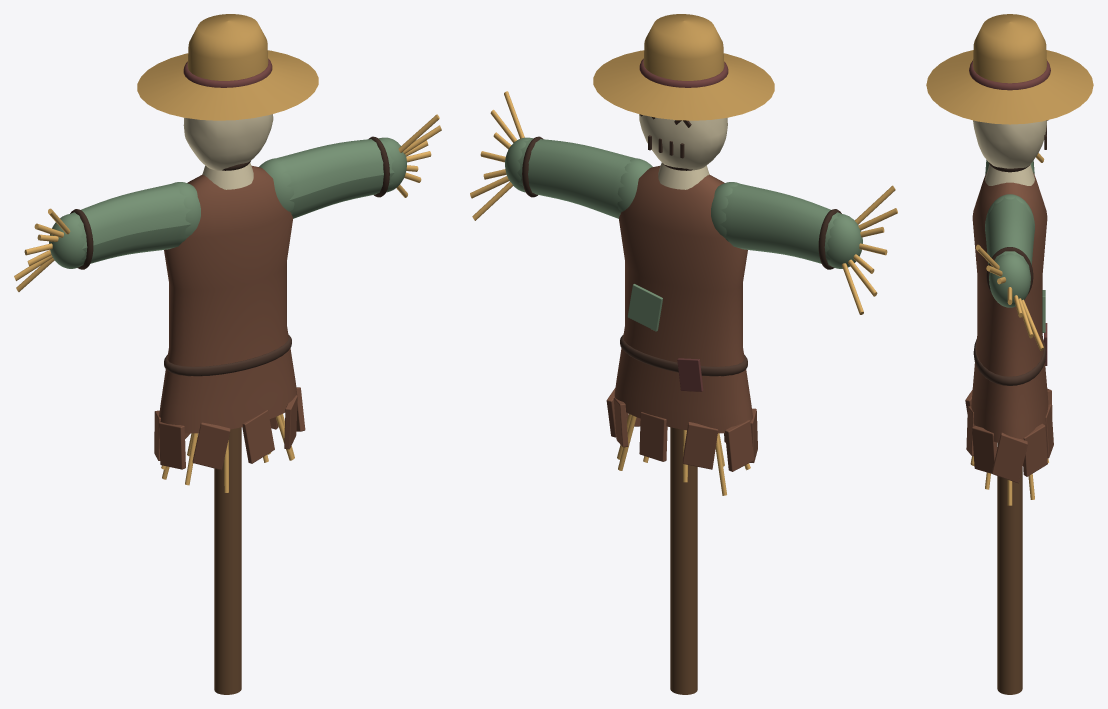
File: detail_scarecrow.glb
3 renders of one model, left to right at view 1: azimuth 30°, elevation 25°; view 2: azimuth 150°, elevation 25°; view 3: azimuth 270°, elevation 25°, orthographic.
Parts seen in each view (by area): view 1: wood, stone, straw, cloth; view 2: wood, stone, straw, cloth; view 3: wood, stone, straw, cloth.
Boxes of the visible parts, <box> form: wood: <box>70,14,389,694</box>; stone: <box>49,137,406,268</box>; straw: <box>14,114,441,492</box>; cloth: <box>164,334,291,376</box>; wood: <box>522,14,841,694</box>; stone: <box>505,137,862,331</box>; straw: <box>470,91,897,495</box>; cloth: <box>620,334,747,376</box>; wood: <box>926,14,1093,694</box>; stone: <box>985,160,1045,332</box>; straw: <box>970,153,1048,505</box>; cloth: <box>973,339,1046,385</box>.
Size of the model in its own units: 1.4 by 2.2 by 0.5.
